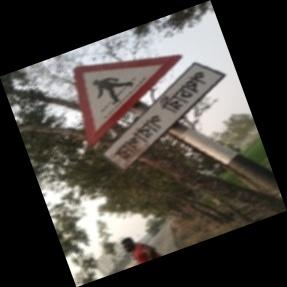Pedestrian-crossing: (71, 50, 221, 176)
